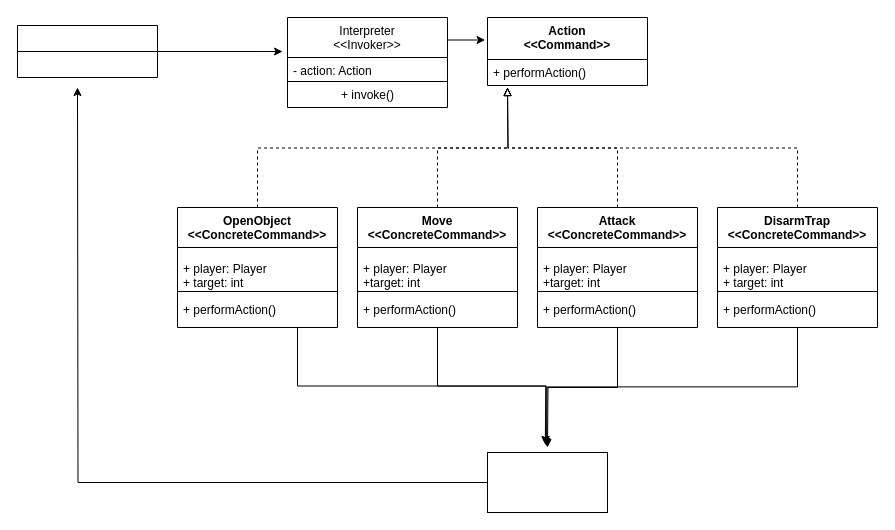
Some shapes in this 895 by 530 pixel diagram are drawn without their labels. The shapes that lost their labels are listed below. From the top down, each one's centre as x and y in pixels, then its label:
pixel 87 51: PTUI
pixel 547 482: PlayerCharacter
